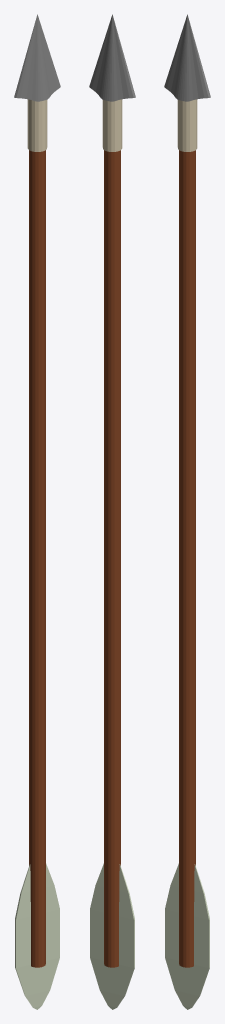
File: arrow.fbx
3 renders of one model, left to right at view 1: azimuth 30°, elevation 25°; view 2: azimuth 150°, elevation 25°; view 3: azimuth 330°, elevation 25°, orthographic.
Parts seen in each view (by area): view 1: Shaft, Feather, Arrowhead, Arrowtight; view 2: Shaft, Feather, Arrowhead, Arrowtight; view 3: Shaft, Feather, Arrowhead, Arrowtight.
Boxes of the visible parts, x1,y1,x2,y2 form: Shaft: (29,150,45,967); Feather: (15,863,59,1009); Arrowhead: (14,14,60,101); Arrowtight: (27,99,47,151); Shaft: (104,150,120,967); Feather: (90,863,134,1009); Arrowhead: (89,14,135,101); Arrowtight: (102,99,122,151); Shaft: (179,150,195,967); Feather: (165,863,209,1009); Arrowhead: (164,14,210,101); Arrowtight: (177,99,197,151).
Bounding box in the file's own units: 4.13 × 84.21 × 1.78.
